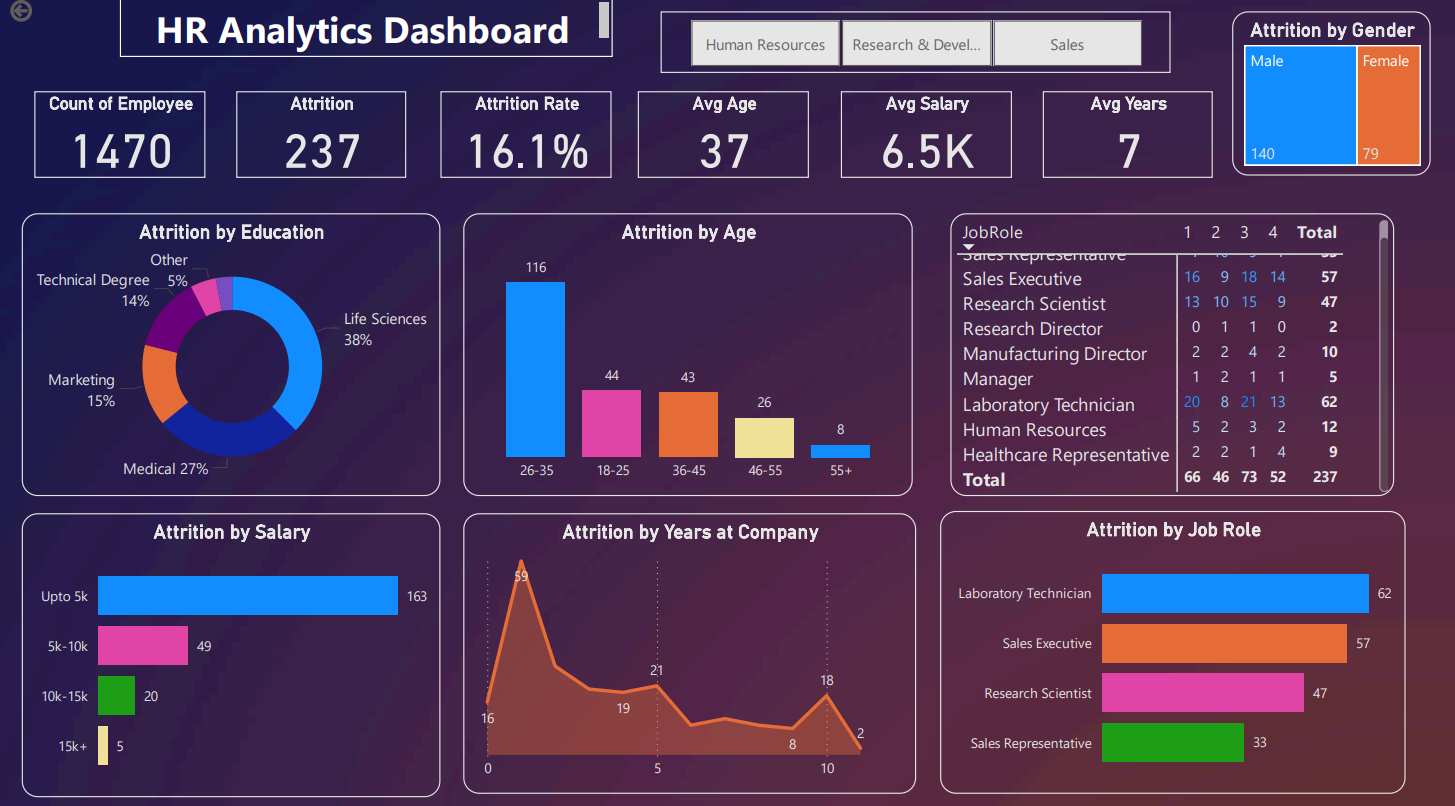

This screenshot's page, from the dashboard's own definition file:
{"tool":"powerbi","page":{"name":"Page 1","canvas":[1280,720],"ordinal":0},"visuals":[{"type":"card","title":"Count of Employee","fields":{"Values":["CountNonNull(HR_Analytics.EmpID)"]},"box":[35.3,84,149.5,75.6],"z":0},{"type":"card","title":"Attrition","fields":{"Values":["Sum(HR_Analytics.AttritionCount)"]},"box":[211.7,84,149.5,75.6],"z":1000},{"type":"card","title":"Attrition Rate","fields":{"Values":["HR_Analytics.AttritionRate"]},"box":[391.4,84,149.5,75.6],"z":2000},{"type":"card","title":"Avg Age","fields":{"Values":["Avg(HR_Analytics.Age)"]},"box":[564.4,84,149.5,75.6],"z":3000},{"type":"card","title":"Avg Salary","fields":{"Values":["Avg(HR_Analytics.MonthlyIncome)"]},"box":[742.5,84,149.5,75.6],"z":5000},{"type":"card","title":"Avg Years","fields":{"Values":["Avg(HR_Analytics.YearsAtCompany)"]},"box":[918.8,84,149.5,75.6],"z":6000},{"type":"donutChart","title":"Attrition by Education","fields":{"Y":["Sum(HR_Analytics.AttritionCount)"],"Category":["HR_Analytics.EducationField","HR_Analytics.YearsAtCompany"]},"box":[24.1,191.3,367.1,248],"z":7000},{"type":"columnChart","title":"Attrition by Age","fields":{"Category":["HR_Analytics.AgeGroup"],"Y":["Sum(HR_Analytics.AttritionCount)"]},"box":[411,191.3,394,248],"z":8000},{"type":"pivotTable","fields":{"Rows":["HR_Analytics.JobRole"],"Columns":["HR_Analytics.JobSatisfaction"],"Values":["Sum(HR_Analytics.AttritionCount)"]},"box":[837.6,191.3,389.8,248],"z":9000},{"type":"barChart","title":"Attrition by Salary","fields":{"Category":["HR_Analytics.SalarySlab"],"Y":["Sum(HR_Analytics.AttritionCount)"]},"box":[24.1,453.5,367.1,249.4],"z":10000},{"type":"barChart","title":"Attrition by Job Role","fields":{"Category":["HR_Analytics.JobRole"],"Y":["Sum(HR_Analytics.AttritionCount)"]},"box":[829.1,452.1,408.2,248],"z":11000},{"type":"areaChart","title":"Attrition by Years at Company","fields":{"Category":["HR_Analytics.YearsAtCompany"],"Y":["Sum(HR_Analytics.AttritionCount)"]},"box":[411,453.5,396.9,246.6],"z":12000},{"type":"treemap","title":"Attrition by Gender","fields":{"Group":["HR_Analytics.Gender"],"Values":["Sum(HR_Analytics.AttritionCount)"]},"box":[1085,14.1,174,144.3],"z":13000},{"type":"slicer","fields":{"Values":["HR_Analytics.Department"]},"box":[584.2,14.1,447,53.8],"z":14000},{"type":"textbox","box":[110.3,0,431.4,53.8],"z":15000}]}

Visuals, with their boxes in screenshot pixels (x1, y1, x2, y2), scaled from the page's 1280x720 canvas onto the 1455x806 screenshot:
"Count of Employee" card: rect(40, 94, 210, 179)
"Attrition" card: rect(241, 94, 411, 179)
"Attrition Rate" card: rect(445, 94, 615, 179)
"Avg Age" card: rect(642, 94, 812, 179)
"Avg Salary" card: rect(844, 94, 1014, 179)
"Avg Years" card: rect(1044, 94, 1214, 179)
"Attrition by Education" donutChart: rect(27, 214, 445, 492)
"Attrition by Age" columnChart: rect(467, 214, 915, 492)
pivotTable - HR_Analytics.JobRole x HR_Analytics.JobSatisfaction: rect(952, 214, 1395, 492)
"Attrition by Salary" barChart: rect(27, 508, 445, 787)
"Attrition by Job Role" barChart: rect(942, 506, 1406, 784)
"Attrition by Years at Company" areaChart: rect(467, 508, 918, 784)
"Attrition by Gender" treemap: rect(1233, 16, 1431, 177)
slicer - HR_Analytics.Department: rect(664, 16, 1172, 76)
textbox: rect(125, 0, 616, 60)
